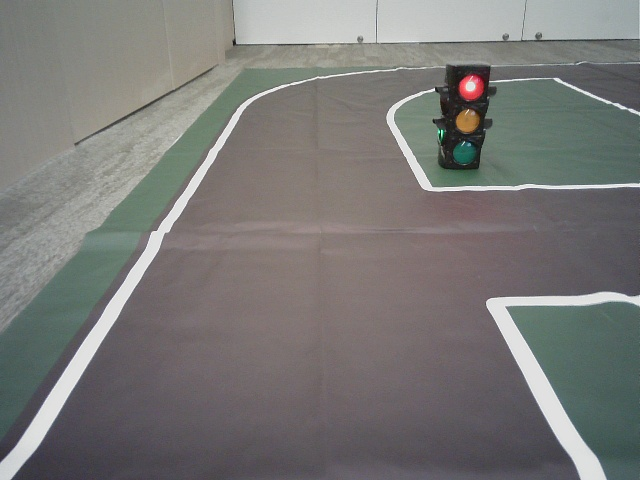red: (450, 72, 481, 165)
